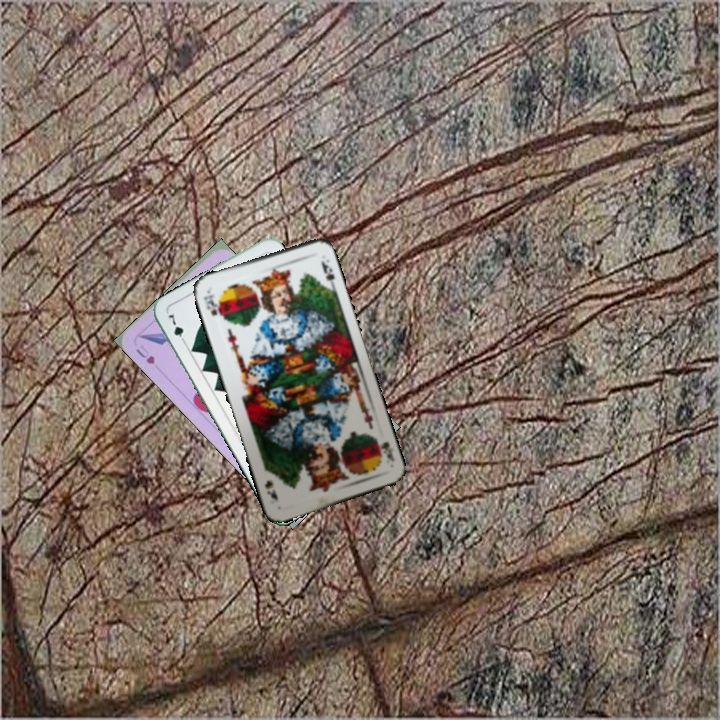G7: (163, 309, 189, 347)
HU: (132, 341, 158, 367)
SK: (370, 433, 398, 465), (199, 290, 224, 319)
